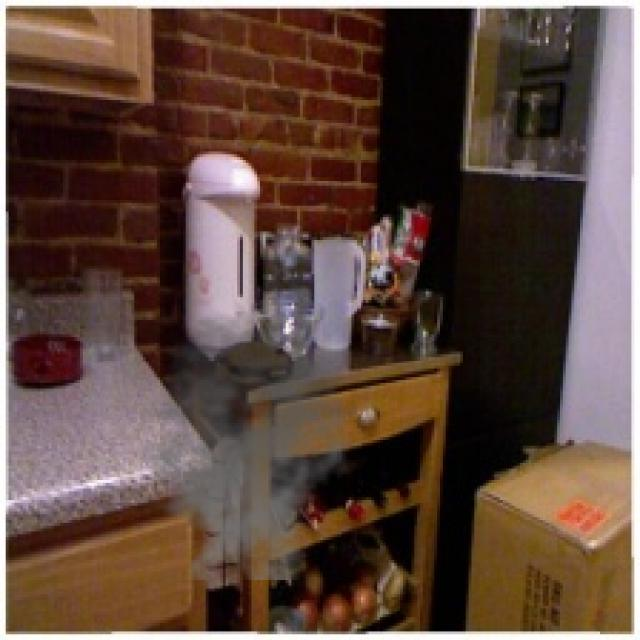smoke: (123, 311, 360, 580)
